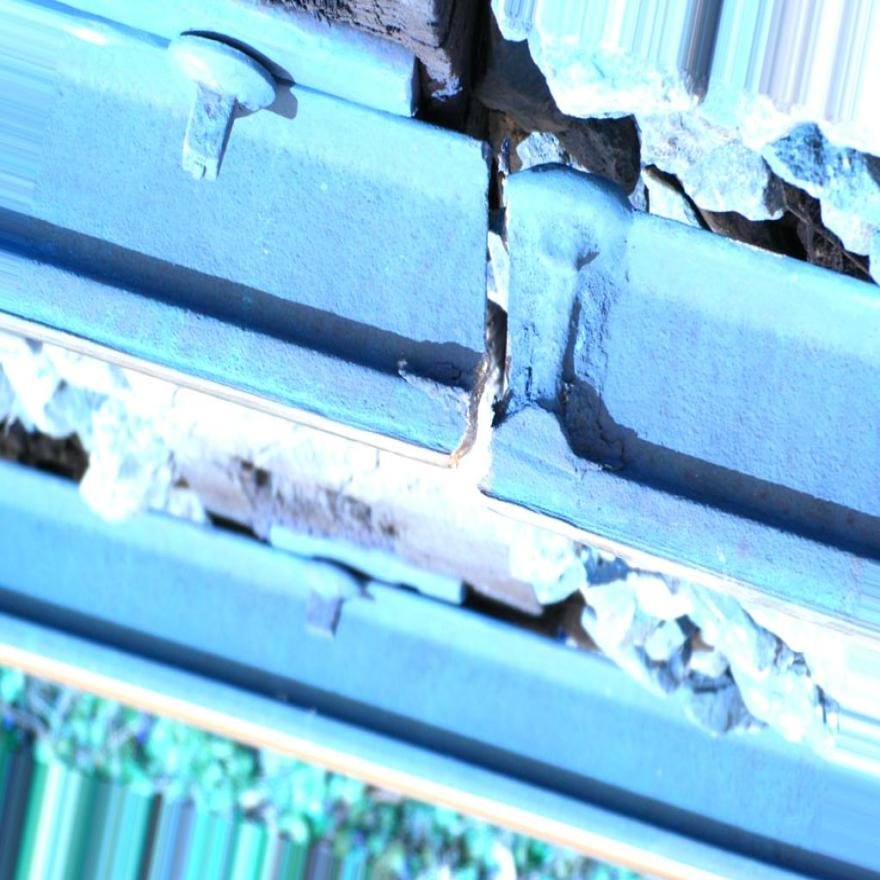railway-gap: (328, 103, 664, 583)
